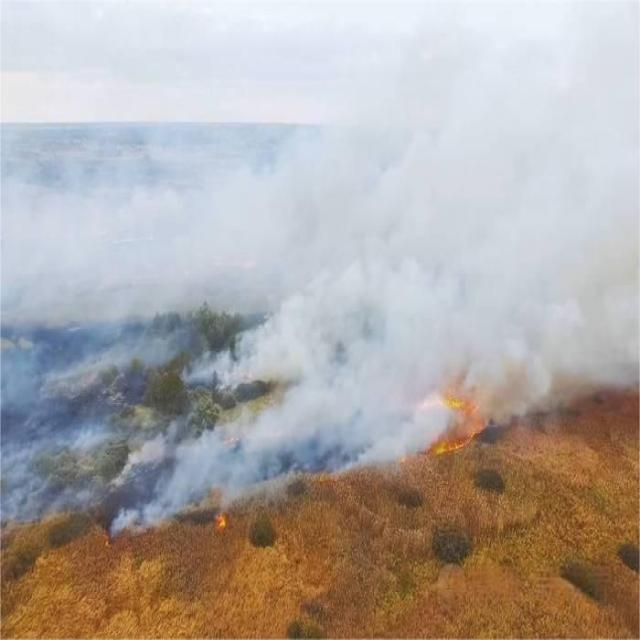Smoke: (242, 1, 640, 451)
